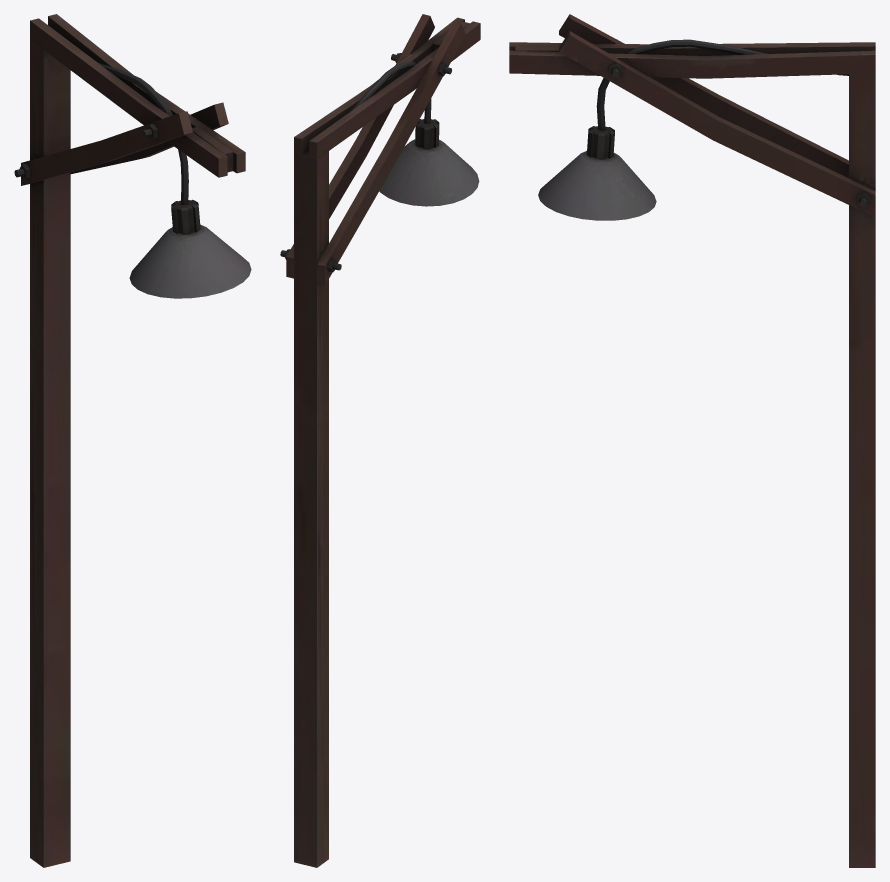
3 views of the same model, side by side, from view 1: azimuth 30°, elevation 25°; view 2: azimuth 150°, elevation 25°; view 3: azimuth 270°, elevation 25° (orthographic). The views are drawn at different scales.
Parts seen in each view (by area): view 1: body0_model0_lod0_mesh0; view 2: body0_model0_lod0_mesh0; view 3: body0_model0_lod0_mesh0.
Part boxes in pixels (x1=…): body0_model0_lod0_mesh0: x1=14, y1=14, x2=251, y2=867; body0_model0_lod0_mesh0: x1=280, y1=14, x2=480, y2=867; body0_model0_lod0_mesh0: x1=509, y1=14, x2=875, y2=867.
Bounding box in the file's own units: 35.52 × 277 × 110.
Materials: 1 (1 with a texture image).
